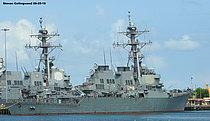MIL_Ship: (0, 12, 192, 115)
